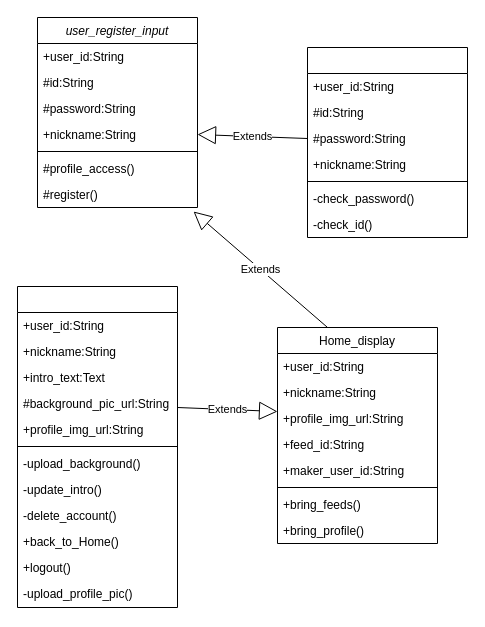
This 485x627 diagram has some shape labels left out. Here are the shapes that lost their labels. From the top down, the box of each, then its label:
(306, 46, 468, 238): Login
(16, 286, 178, 608): profile_display
